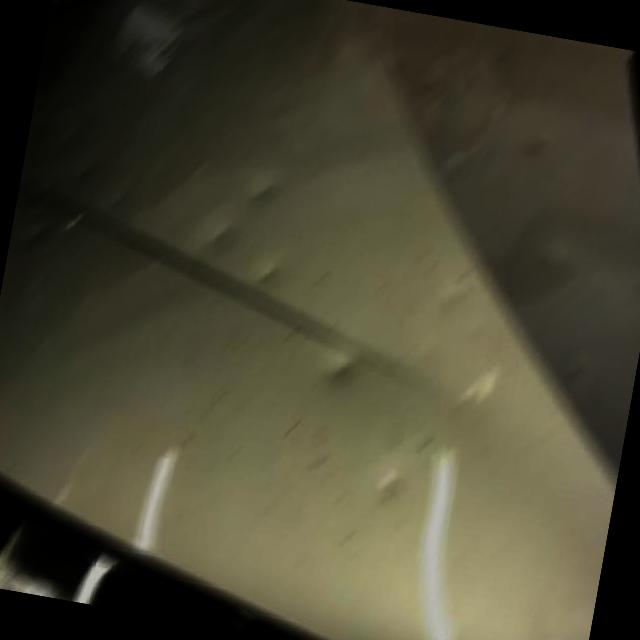dent: (376, 467, 412, 506), (464, 369, 498, 404), (326, 349, 354, 385), (204, 221, 234, 251), (249, 180, 277, 203), (73, 157, 98, 181), (256, 259, 276, 287), (24, 220, 47, 244)
